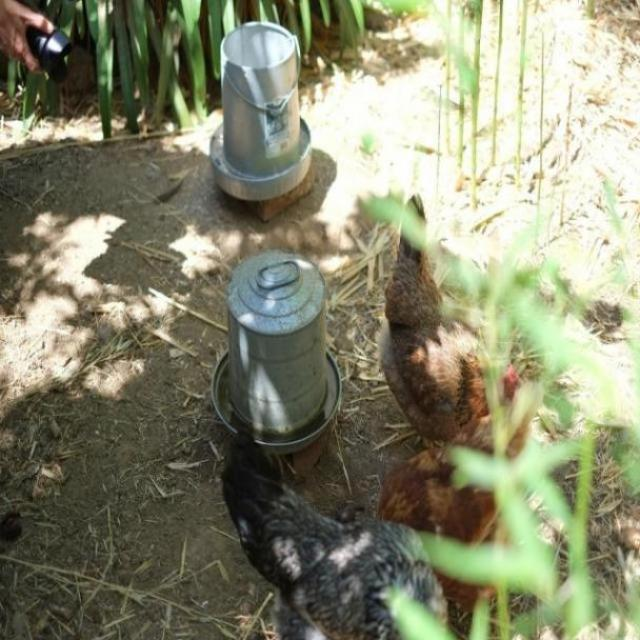Chicken: (221, 419, 455, 639), (370, 379, 537, 639), (369, 192, 518, 455)
